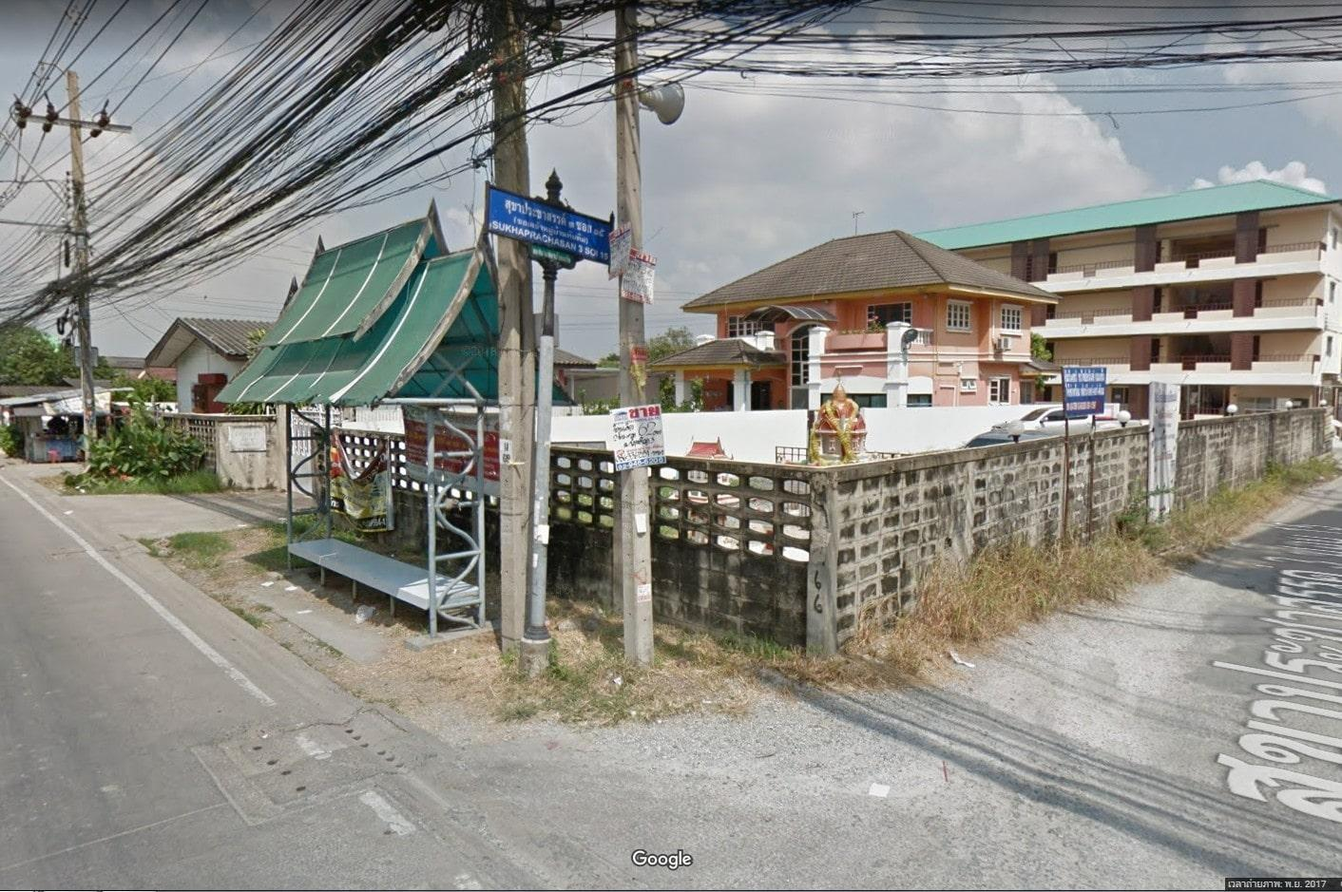wires: (866, 0, 1342, 88), (293, 0, 861, 71), (167, 52, 281, 264), (15, 178, 157, 299)
